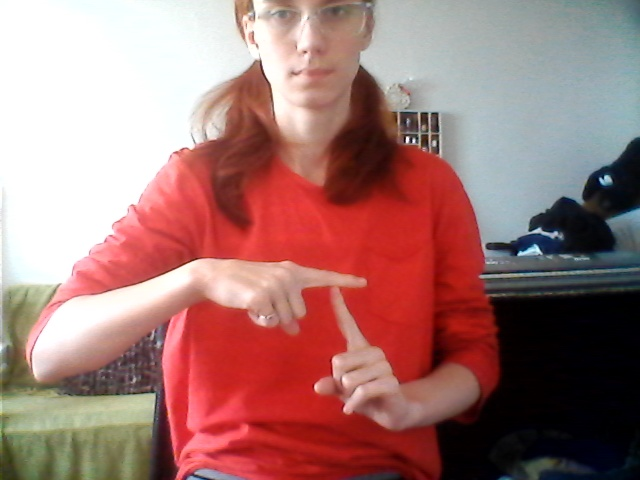t: (228, 243, 414, 438)
